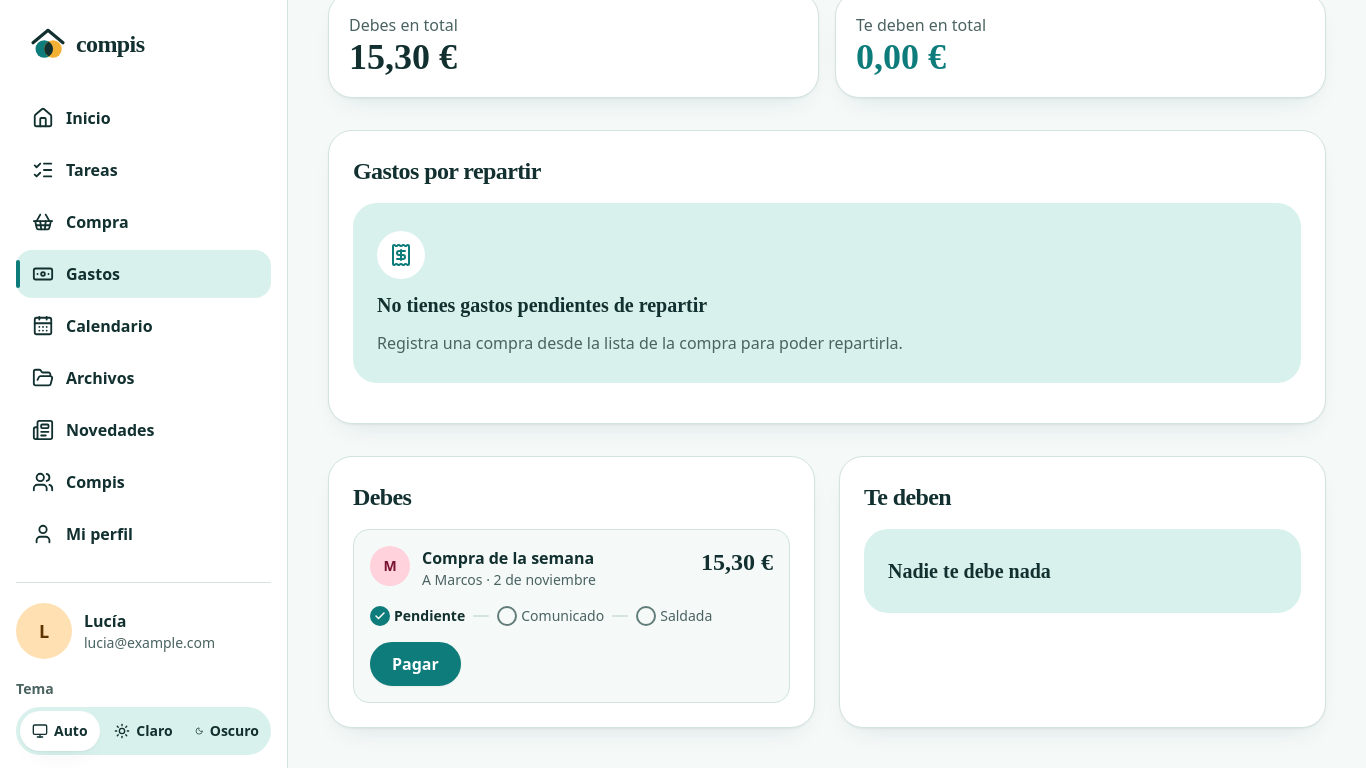
Test: paying a debt › explains when the creditor has no PayPal.Me username
(page scrolled)
What coordinates should you click on to do the following:
click the button "Pagar"
I would click on:
 (415, 664)
Its box is [370,642,461,686].
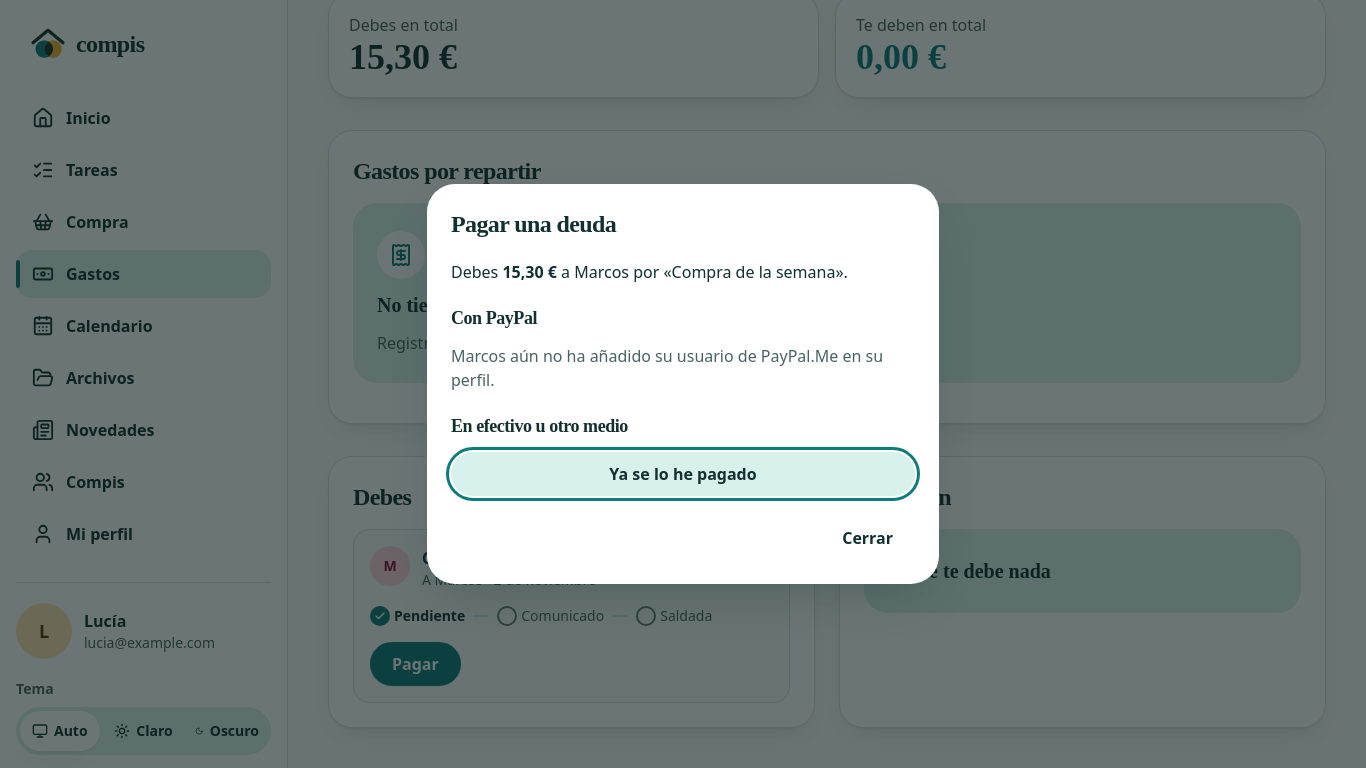
Check: the text "aún no ha añadido su usuario de PayPal.Me" is shown, box [451,345,883,391]
